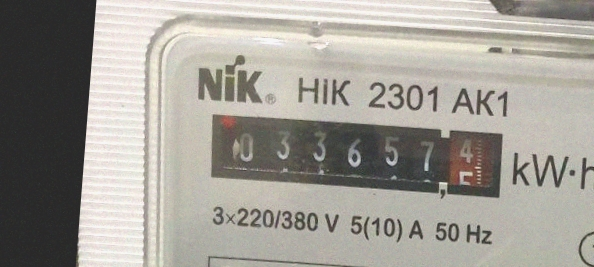0: (234, 127, 257, 166)
3: (272, 126, 294, 162), (308, 128, 329, 164)
4: (455, 134, 477, 166)
5: (378, 131, 403, 169)
6: (342, 133, 364, 170)
7: (415, 136, 435, 173)
screen: (194, 102, 512, 208)
